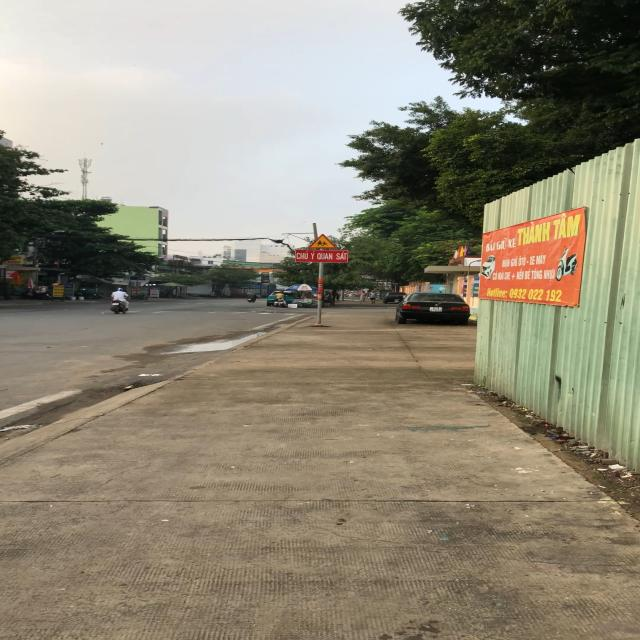Bien bao tre em: (307, 232, 339, 249)
